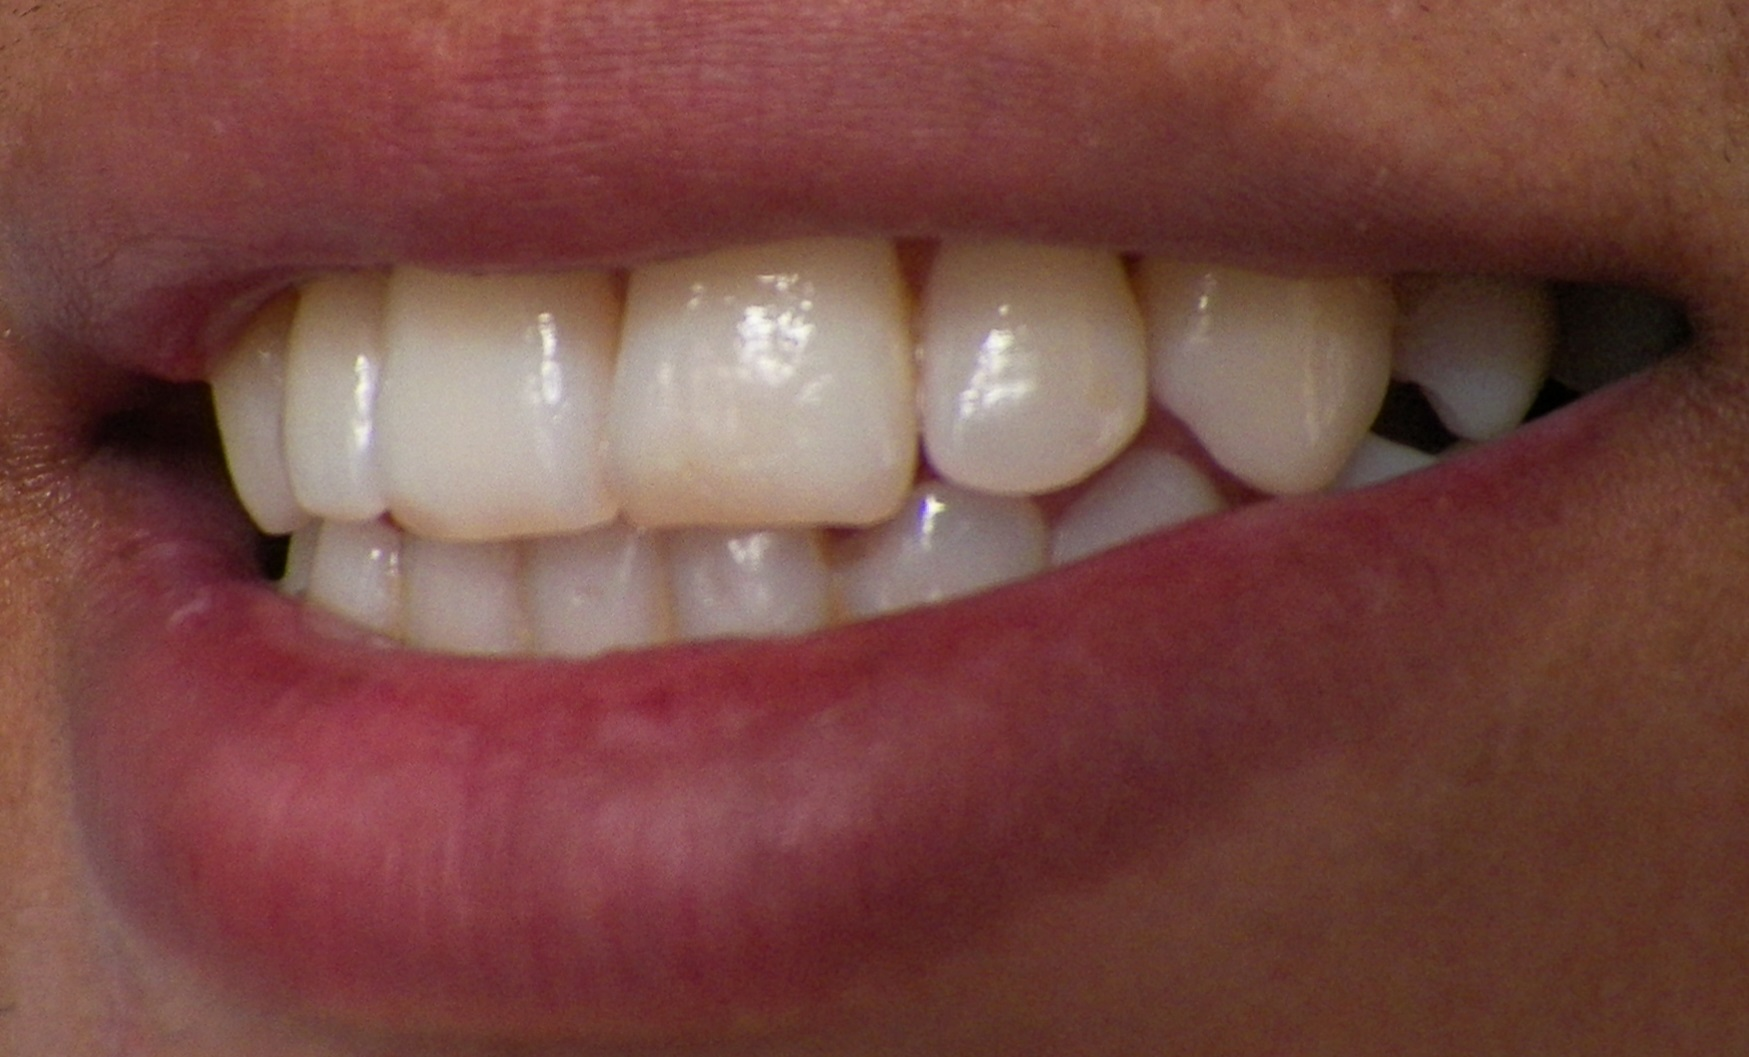boca: (212, 269, 1669, 640)
